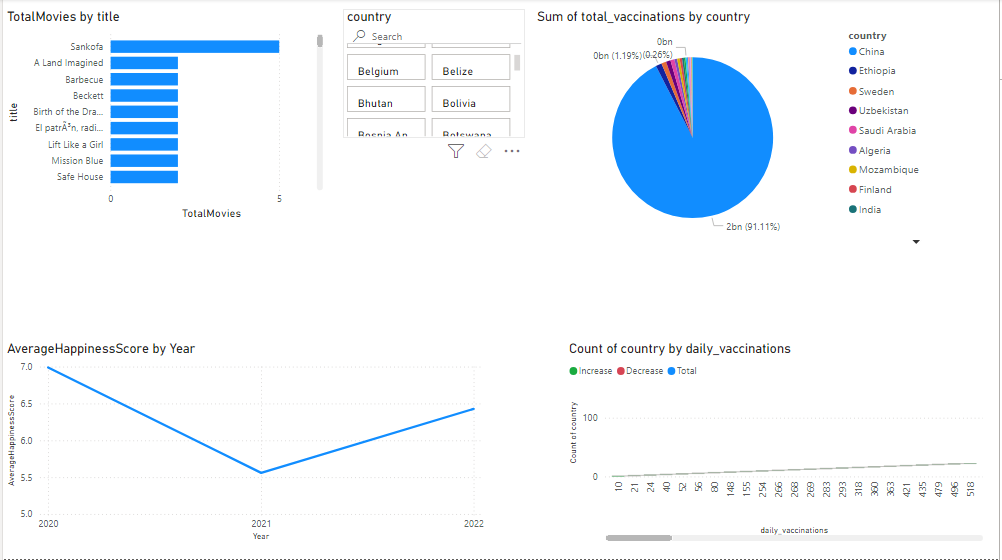

What the dashboard file says about the page in this screenshot:
{"tool":"powerbi","page":{"name":"DAX REPORT","canvas":[1280,720],"ordinal":0},"visuals":[{"type":"clusteredBarChart","fields":{"Category":["netflix_titles.title"],"Y":["netflix_titles.TotalMovies"]},"box":[0,12.9,416.4,275],"z":0},{"type":"lineChart","fields":{"Y":["World_Happiness_Report.AverageHappinessScore"],"Category":["World_Happiness_Report.country_covid_vaccinations.date.Variation.Date Hierarchy.Year"]},"box":[0,440,622.9,261.4],"z":1000},{"type":"pieChart","fields":{"Category":["country_covid_vaccinations.country"],"Y":["Sum(country_covid_vaccinations.total_vaccinations)"]},"box":[680.6,13.3,583.4,311.7],"z":2000},{"type":"waterfallChart","fields":{"Category":["country_covid_vaccinations.daily_vaccinations"],"Y":["CountNonNull(country_covid_vaccinations.country)"]},"box":[722.2,439.5,542.3,262.2],"z":3000},{"type":"advancedSlicerVisual","fields":{"Values":["country_covid_vaccinations.country"]},"box":[437.1,12.9,242.9,165.7],"z":4000}]}

Visuals, with their boxes in screenshot pixels (x1, y1, x2, y2), scaled from the page's 1280x720 canvas onto the 1002x560 screenshot:
clusteredBarChart - netflix_titles.title x netflix_titles.TotalMovies: (0,10,326,224)
lineChart - World_Happiness_Report.AverageHappinessScore x World_Happiness_Report.country_covid_vaccinations.date.Variation.Date Hierarchy.Year: (0,342,488,546)
pieChart - country_covid_vaccinations.country x Sum(country_covid_vaccinations.total_vaccinations): (533,10,989,253)
waterfallChart - country_covid_vaccinations.daily_vaccinations x CountNonNull(country_covid_vaccinations.country): (565,342,990,546)
advancedSlicerVisual - country_covid_vaccinations.country: (342,10,532,139)
